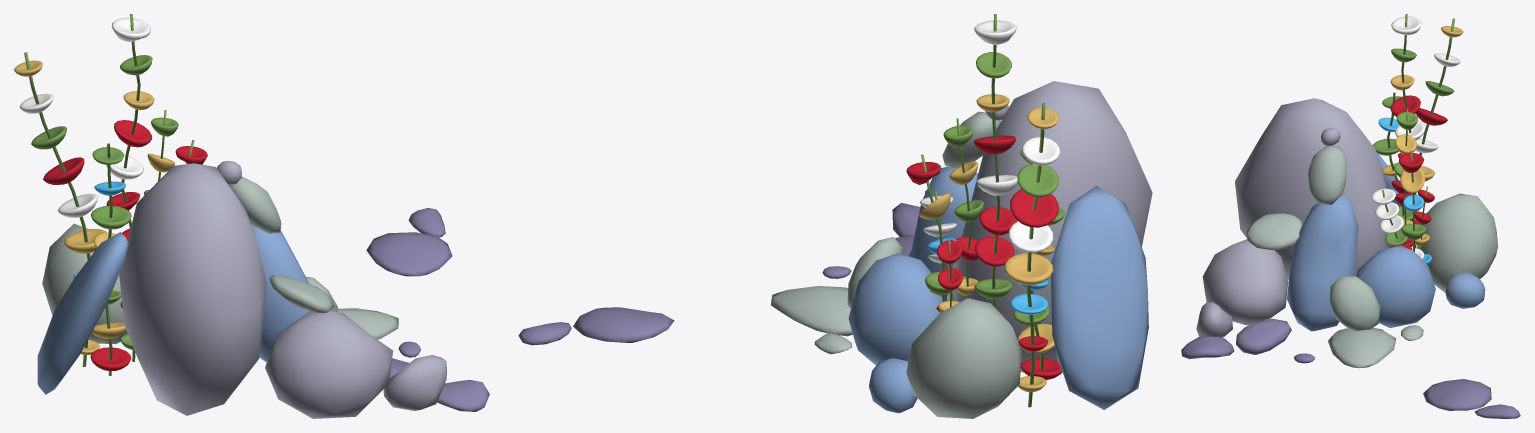
File: rocks3.fbx
3 renders of one model, left to right at view 1: azimuth 30°, elevation 25°; view 2: azimuth 150°, elevation 25°; view 3: azimuth 270°, elevation 25°, orthographic. The views are drawn at different scales.
Parts seen in each view (by area): view 1: Sand.002; view 2: Sand.002; view 3: Sand.002.
Part boxes in pixels (box(x1,y1,x2,y2)): Sand.002: box(14, 14, 489, 418); Sand.002: box(518, 14, 1152, 418); Sand.002: box(1181, 14, 1520, 418).
Size of the model in its own units: 1054 by 751 by 829.
